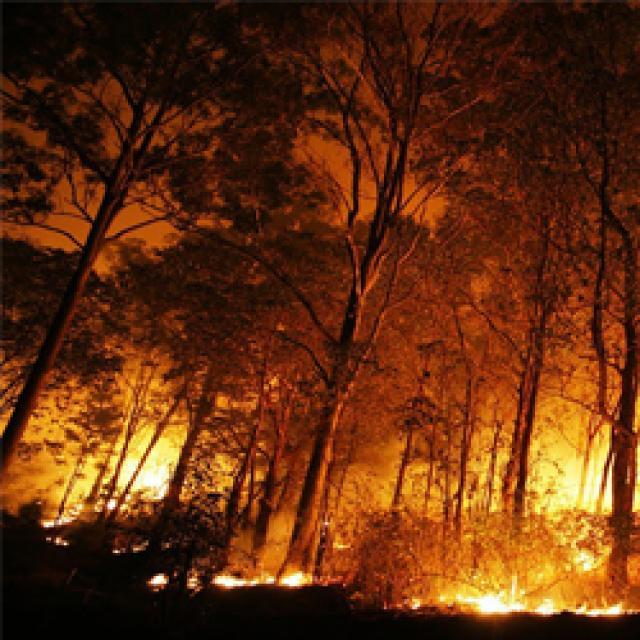Fire: (478, 381, 640, 622), (0, 358, 204, 518), (363, 563, 638, 640), (257, 456, 463, 536), (104, 538, 337, 608)
